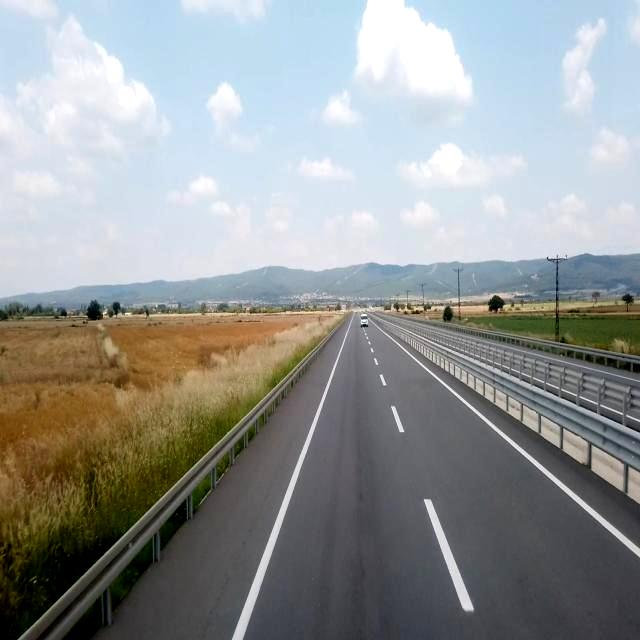lane: (388, 336, 639, 556), (232, 363, 335, 634), (424, 499, 472, 612)
road: (95, 316, 639, 639)
